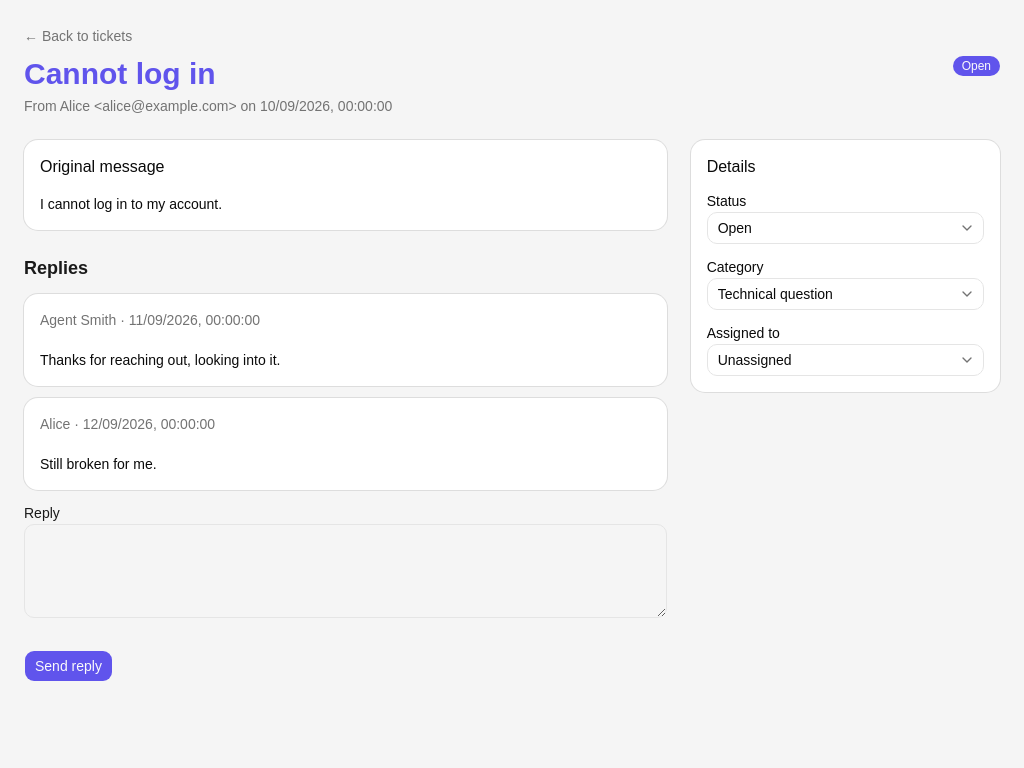
Test: TicketDetailPage › shows an error alert when sending a reply fails
Expected: the heading "Cannot log in" is shown, [24, 57, 216, 90]
Type "Trying again." into the text box labelled "Reply". click: (345, 571)
box: [24, 524, 667, 618]
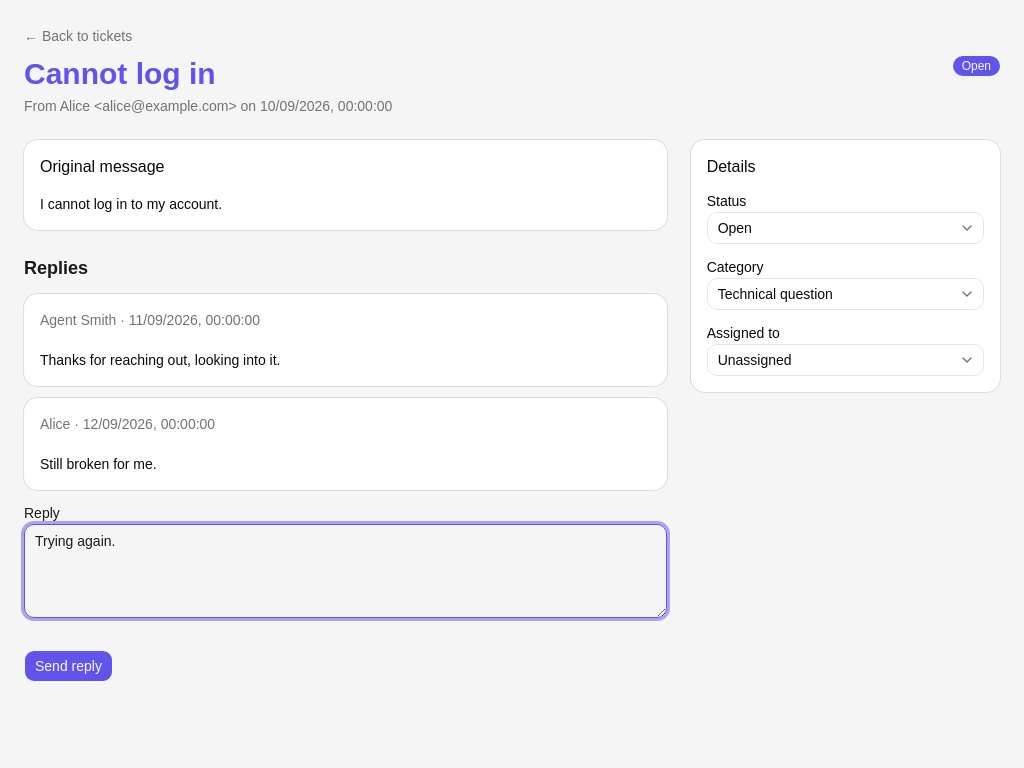
Click the button "Send reply". click: (68, 666)
box: [24, 650, 113, 682]
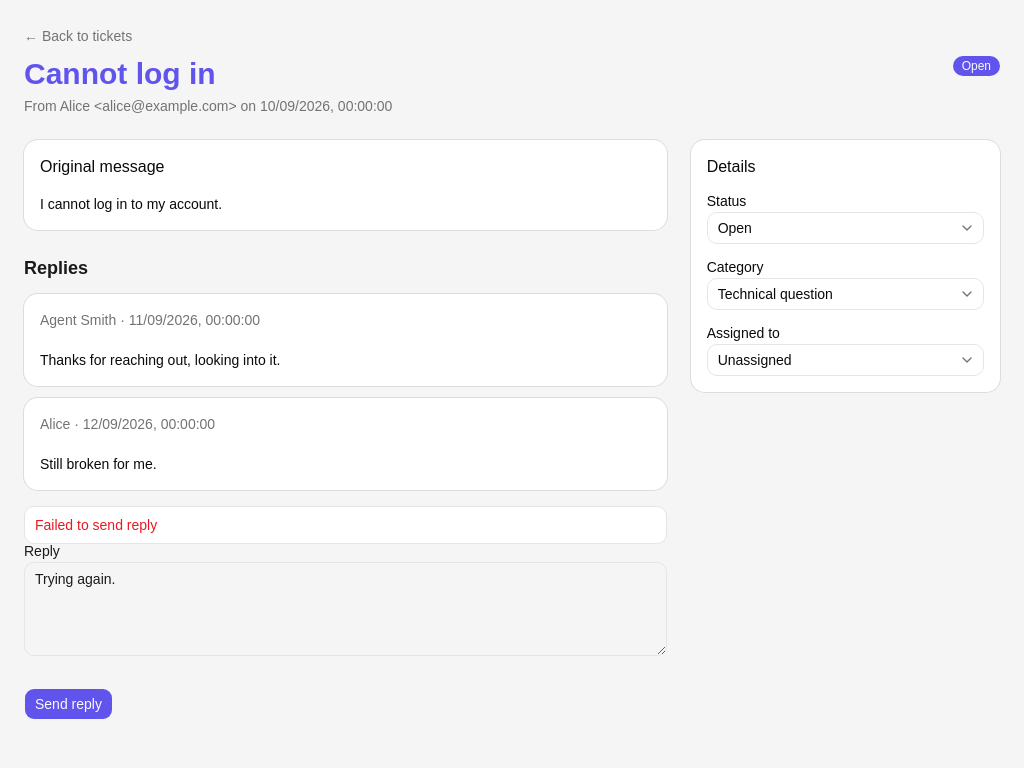
Now the text "Failed to send reply" is shown, box [35, 517, 157, 533]
